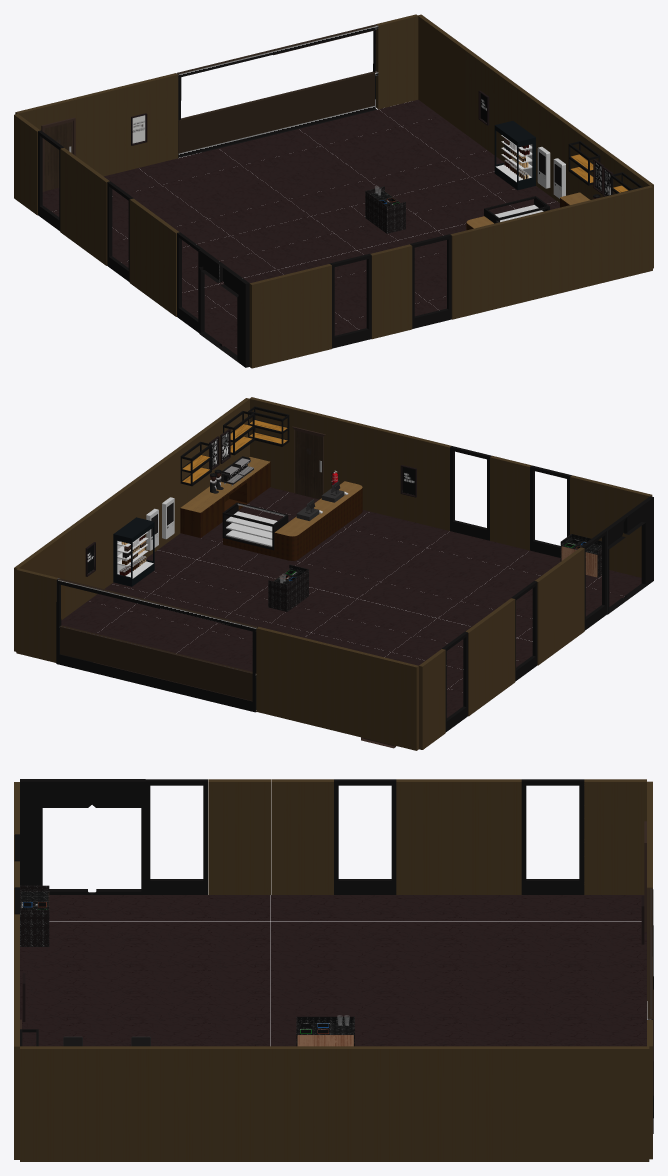
File: room_without_tunnel_and_door.glb
3 renders of one model, top to bottom at view 1: azimuth 30°, elevation 25°; view 2: azimuth 150°, elevation 25°; view 3: azimuth 270°, elevation 25°, orthographic. The views are drawn at different scales.
Visible parts, largest first — view 1: polySurface922_outerwall_0, group1pasted__pPlane180, polySurface76_fireextinguisher_0, Cube.001, default115_kiosk_0, default123_bin_0, Cube, polySurface76_fireextinguisher_0.002, polySurface76_fireextinguisher_0.004, polySurface140; view 2: polySurface922_outerwall_0, group1pasted__pPlane180, polySurface76_fireextinguisher_0, Cube.001, pCube235, default115_kiosk_0, polySurface76_fireextinguisher_0.004, cafe:pCube2, default123_bin_0, polySurface76_fireextinguisher_0.002, Cube, pCylinder385 (+1 smaller); view 3: polySurface922_outerwall_0, group1pasted__pPlane180, polySurface76_fireextinguisher_0, default123_bin_0, polySurface76_fireextinguisher_0.002, Cube.
Boxes of the visible parts, box(x1,y1,x2,y2) form: polySurface922_outerwall_0: box(14, 14, 653, 368); group1pasted__pPlane180: box(42, 99, 559, 354); polySurface76_fireextinguisher_0: box(38, 90, 642, 367); Cube.001: box(178, 71, 378, 156); default115_kiosk_0: box(494, 121, 565, 222); default123_bin_0: box(365, 186, 405, 233); Cube: box(176, 24, 378, 77); polySurface76_fireextinguisher_0.002: box(107, 181, 133, 281); polySurface76_fireextinguisher_0.004: box(178, 30, 376, 157); polySurface140: box(503, 138, 529, 179); polySurface922_outerwall_0: box(14, 397, 652, 750); group1pasted__pPlane180: box(61, 487, 641, 717); polySurface76_fireextinguisher_0: box(85, 406, 653, 748); Cube.001: box(59, 625, 256, 710); pCube235: box(223, 481, 362, 560); default115_kiosk_0: box(113, 470, 348, 586); polySurface76_fireextinguisher_0.004: box(56, 581, 256, 712); cafe:pCube2: box(180, 457, 270, 537); default123_bin_0: box(268, 534, 601, 611); polySurface76_fireextinguisher_0.002: box(511, 581, 537, 681); Cube: box(56, 578, 257, 631); pCylinder385: box(221, 456, 253, 485); polySurface922_outerwall_0: box(14, 779, 652, 1161); group1pasted__pPlane180: box(20, 895, 646, 1046); polySurface76_fireextinguisher_0: box(15, 779, 646, 1046); default123_bin_0: box(20, 885, 354, 1046); polySurface76_fireextinguisher_0.002: box(334, 779, 396, 894); Cube: box(647, 888, 652, 1019).
Size of the model in its own units: 2.44 by 0.5028 by 2.45.
Materials: 12 (11 with a texture image).
